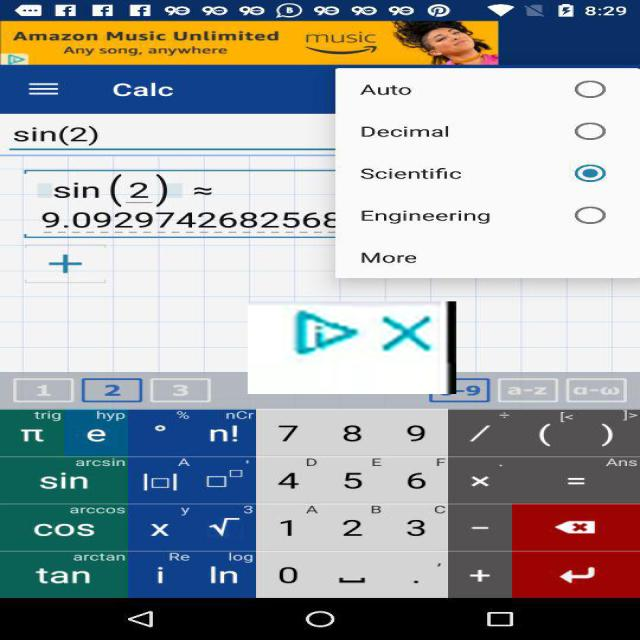sneaking: (248, 301, 456, 394)
